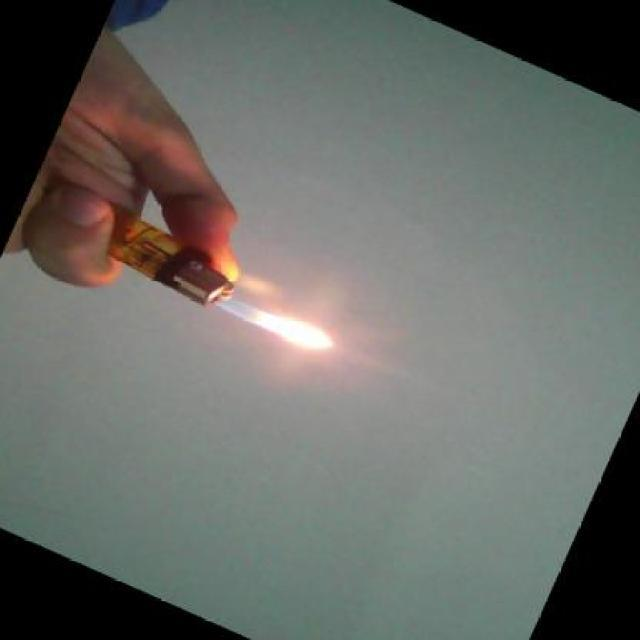Fire: (228, 297, 337, 373)
